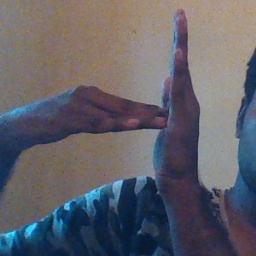Z: (93, 5, 209, 182)
